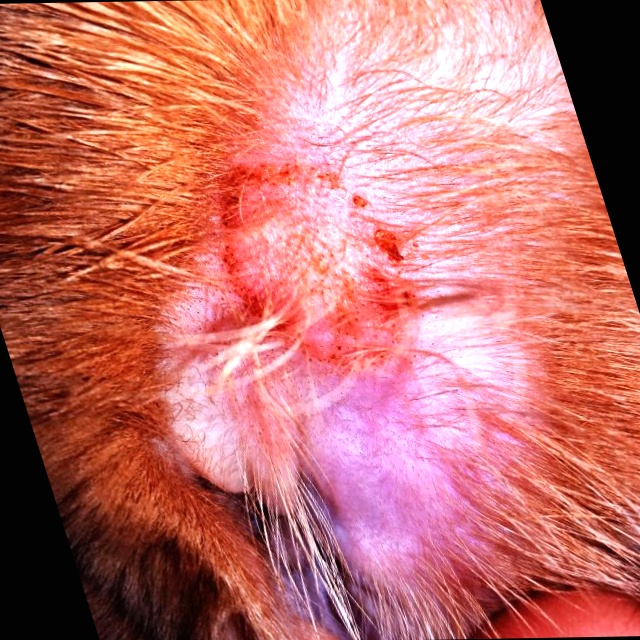ringworm: (191, 158, 436, 381)
